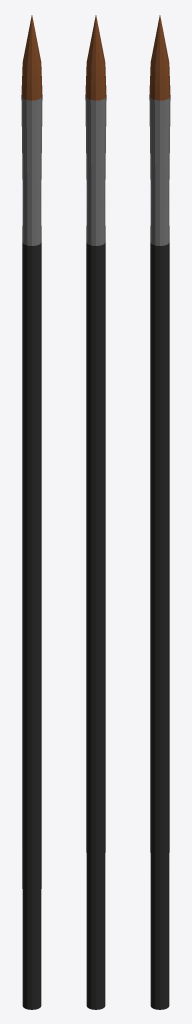
File: normal_brush.fbx
3 renders of one model, left to right at view 1: azimuth 30°, elevation 25°; view 2: azimuth 150°, elevation 25°; view 3: azimuth 330°, elevation 25°, orthographic.
Visible parts, largest first — view 1: normal_brush; view 2: normal_brush; view 3: normal_brush.
Boxes of the visible parts, left/top/right/bottom form: normal_brush: left=21, top=15, right=42, bottom=1009; normal_brush: left=85, top=15, right=106, bottom=1009; normal_brush: left=149, top=15, right=170, bottom=1009.
Bounding box in the file's own units: 0.3393 × 17.5 × 0.3317.
